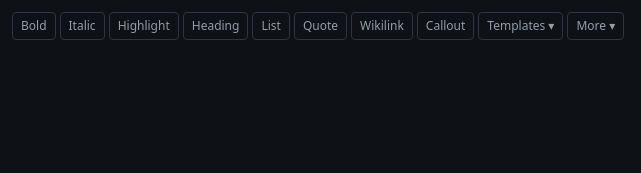
Scenario: entry template inserts › shows all four templates after clicking Templates
Click the button "Templates ▾". click: click(521, 26)
box: [478, 12, 563, 40]
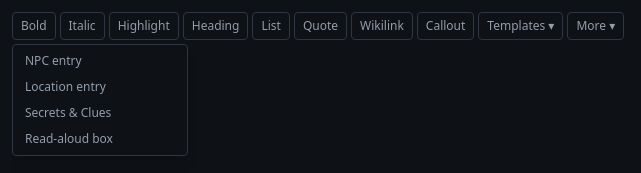
Now the button "NPC entry" is shown, box [17, 49, 183, 73]
Now the button "Location entry" is shown, box [17, 75, 183, 99]
Now the button "Secrets & Clues" is shown, box [17, 101, 183, 125]
